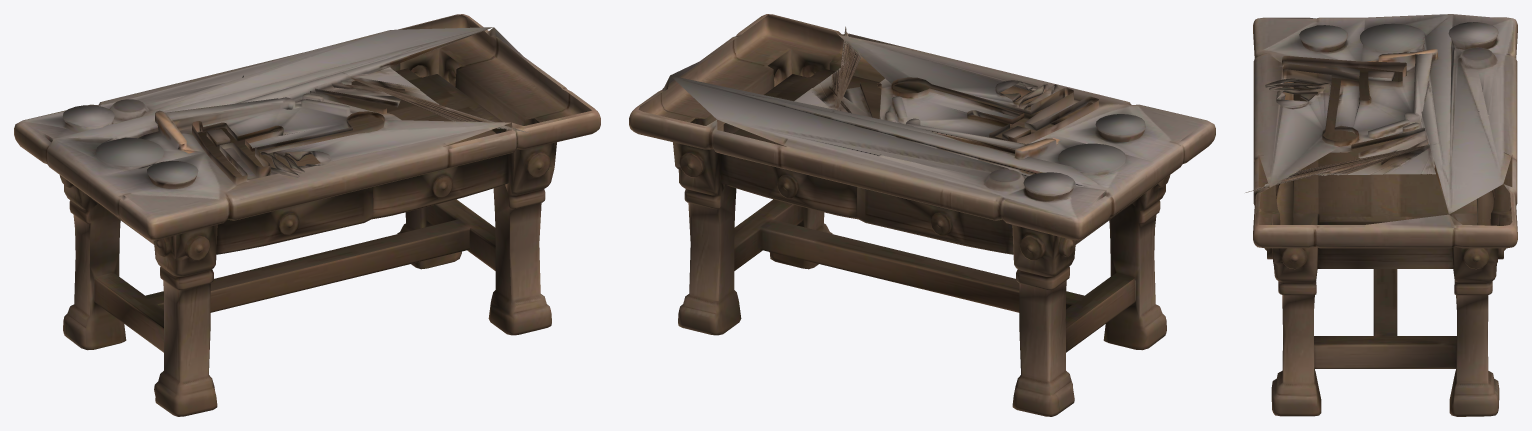
File: Furniture__ancient_workshop_table_f07220b5_v3.cluster.glb
3 renders of one model, left to right at view 1: azimuth 30°, elevation 25°; view 2: azimuth 150°, elevation 25°; view 3: azimuth 270°, elevation 25°, orthographic. The views are drawn at different scales.
Parts seen in each view (by area): view 1: mesh_input; view 2: mesh_input; view 3: mesh_input.
Part boxes in pixels (<box>): mesh_input: <box>14,14,600,416</box>; mesh_input: <box>629,14,1215,416</box>; mesh_input: <box>1245,14,1517,416</box>.
Size of the model in its own units: 1.9 by 0.9238 by 1.03.
Materials: 1 (1 with a texture image).
